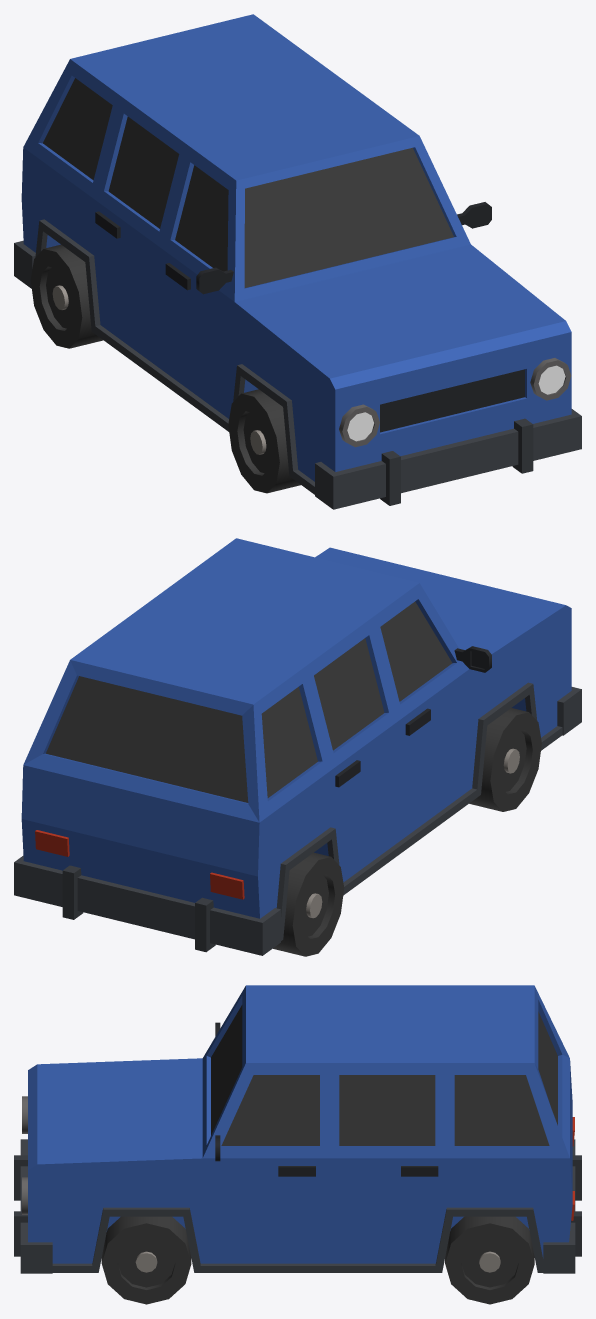
The model's file is Jeep_2.fbx.
3 renders of one model, top to bottom at view 1: azimuth 30°, elevation 25°; view 2: azimuth 150°, elevation 25°; view 3: azimuth 270°, elevation 25°, orthographic. The views are drawn at different scales.
Visible parts, largest first — view 1: Jeep_2; view 2: Jeep_2; view 3: Jeep_2.
Boxes of the visible parts, x1,y1,x2,y2 form: Jeep_2: [14, 14, 581, 509]; Jeep_2: [14, 538, 581, 956]; Jeep_2: [14, 985, 581, 1304].
Size of the model in its own units: 272 by 229 by 526.
